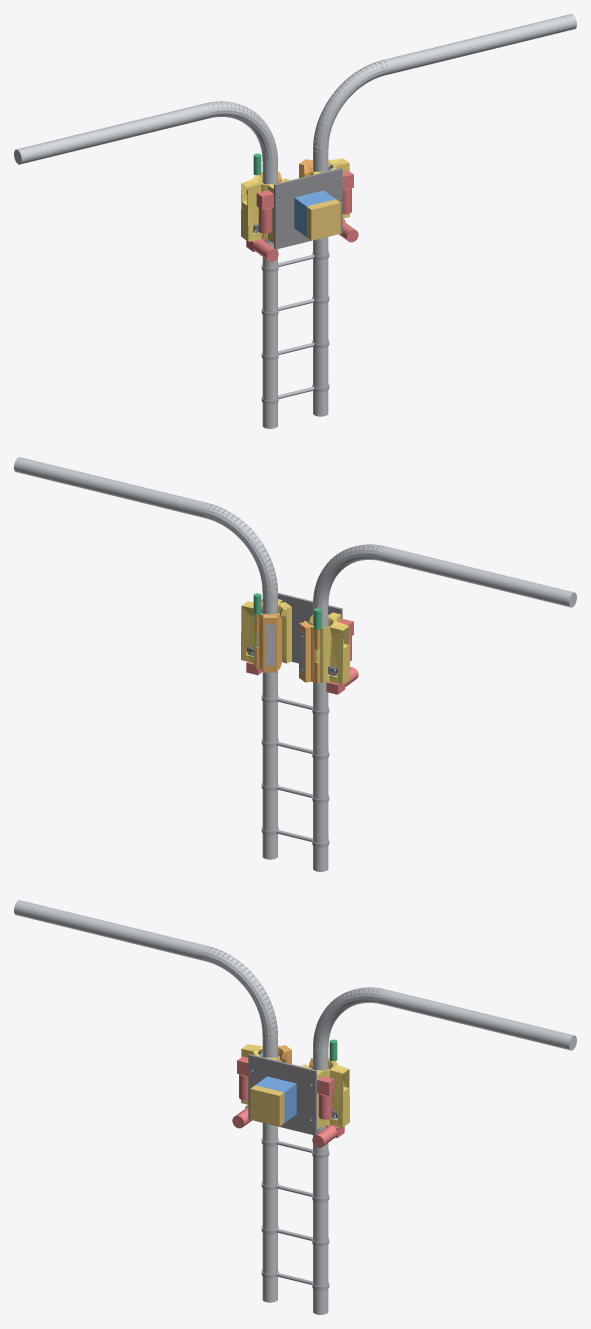
File: transfer-assembly.glb
The picture shows the model from 3 angles, top to bottom: view 1: azimuth 30°, elevation 25°; view 2: azimuth 150°, elevation 25°; view 3: azimuth 330°, elevation 25°; orthographic projection.
Size of the model in its own units: 1.32 by 0.766 by 0.1708.
